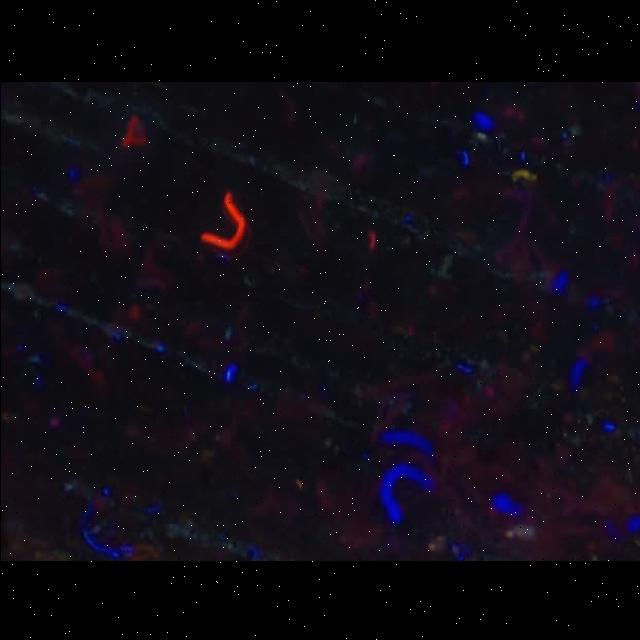Fragment: (121, 113, 145, 146)
